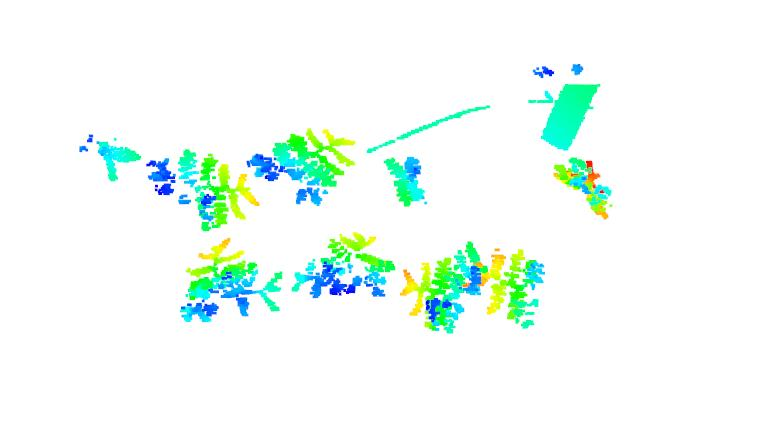chickpea: (245, 128, 359, 208), (176, 239, 282, 324), (151, 150, 259, 228), (466, 243, 546, 328), (294, 234, 393, 302), (399, 252, 473, 335), (76, 131, 143, 181), (384, 153, 430, 209)
